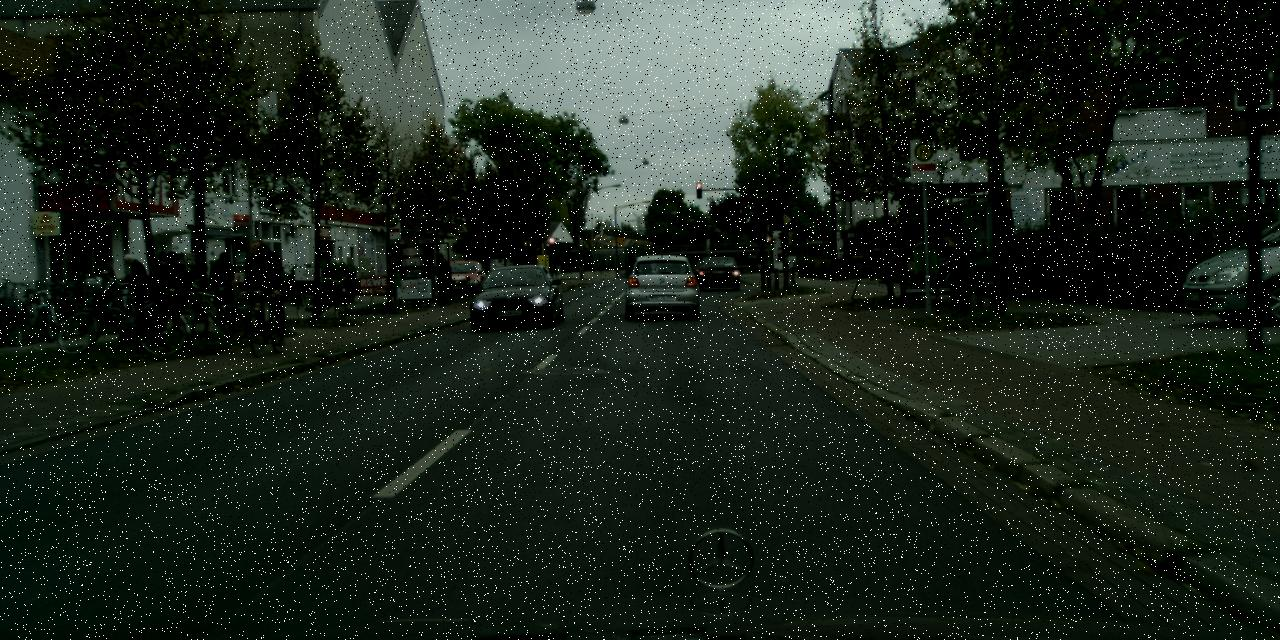ped: (243, 238, 283, 338), (942, 228, 976, 316), (211, 252, 238, 320), (120, 252, 147, 320), (156, 251, 195, 293), (92, 255, 117, 318), (432, 253, 453, 305)
